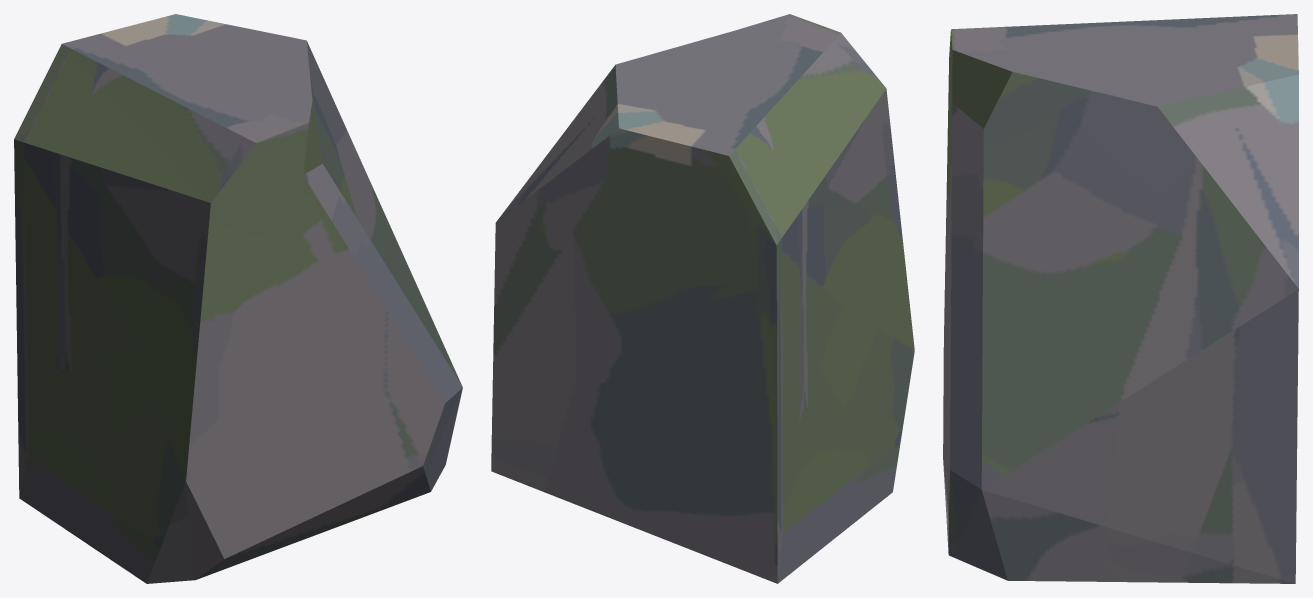
The model's file is T_ROCK05.fbx.
3 renders of one model, left to right at view 1: azimuth 30°, elevation 25°; view 2: azimuth 150°, elevation 25°; view 3: azimuth 270°, elevation 25°, orthographic. The views are drawn at different scales.
Visible parts, largest first — view 1: T_ROCK05.001; view 2: T_ROCK05.001; view 3: T_ROCK05.001.
Boxes of the visible parts, x1,y1,x2,y2 form: T_ROCK05.001: (14,14,462,583); T_ROCK05.001: (491,14,914,583); T_ROCK05.001: (943,14,1298,583).
Bounding box in the file's own units: 141 × 198 × 127.
1 material, 1 textured.
